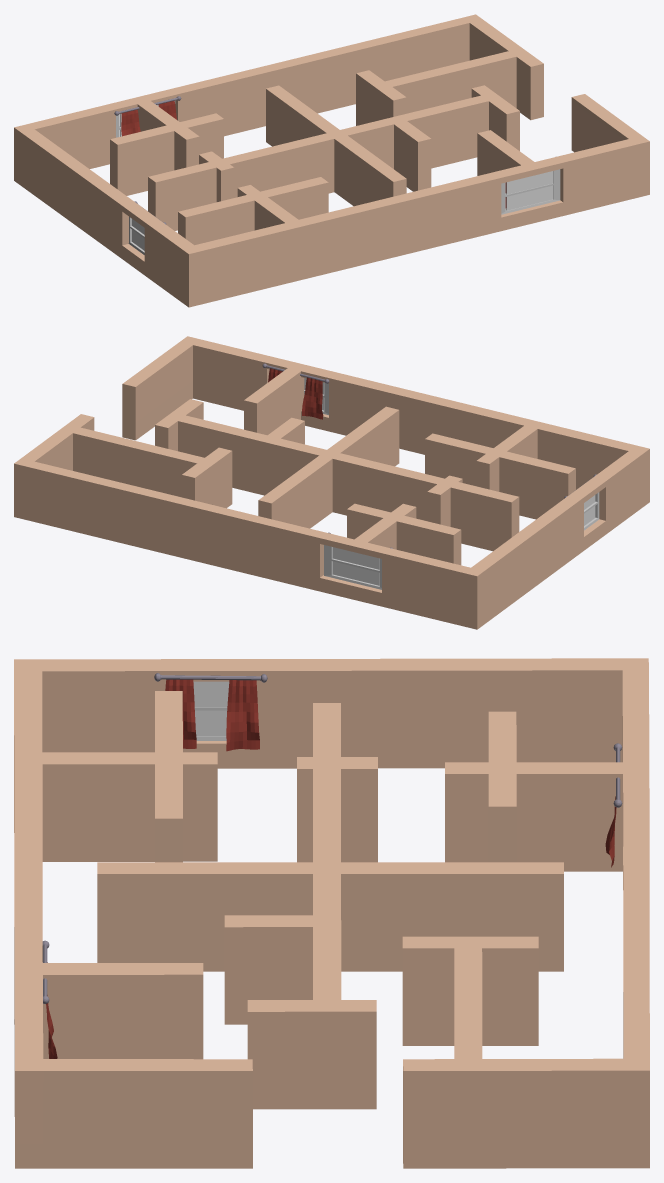
Rendered from Level 15.fbx.
The picture shows the model from 3 angles, top to bottom: view 1: azimuth 30°, elevation 25°; view 2: azimuth 150°, elevation 25°; view 3: azimuth 270°, elevation 25°; orthographic projection. The views are drawn at different scales.
Visible parts, largest first — view 1: polySurface116, pasted__wind1, polySurface50, pasted__pasted__clowt1; view 2: polySurface116, polySurface50, pasted__wind1, pasted__pasted__clowt1; view 3: polySurface116, pasted__pasted__clowt1.
Part boxes in pixels (left/top/right/bottom): polySurface116: left=14, top=14, right=649, bottom=307; pasted__wind1: left=501, top=169, right=560, bottom=214; polySurface50: left=114, top=96, right=181, bottom=137; pasted__pasted__clowt1: left=128, top=201, right=166, bottom=254; polySurface116: left=14, top=336, right=649, bottom=629; polySurface50: left=324, top=532, right=392, bottom=589; pasted__wind1: left=262, top=363, right=329, bottom=419; pasted__pasted__clowt1: left=564, top=474, right=599, bottom=530; polySurface116: left=14, top=658, right=649, bottom=1168; pasted__pasted__clowt1: left=154, top=673, right=267, bottom=751.
Bounding box in the file's own units: 154 × 16.93 × 99.98.
